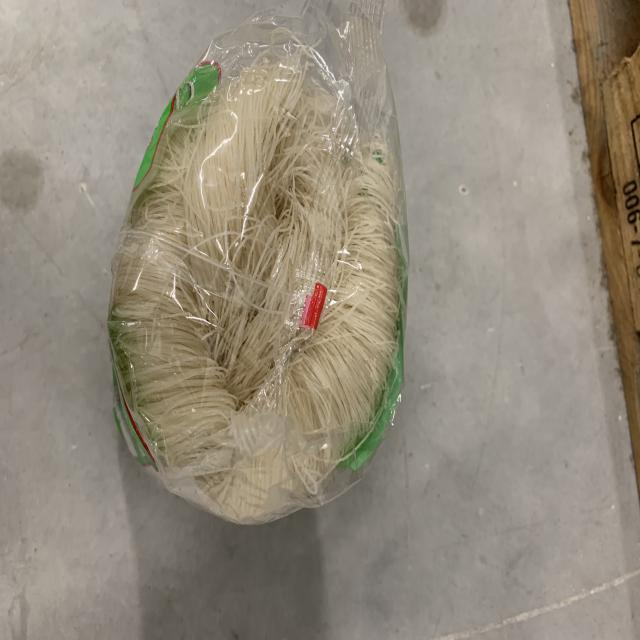object_name: (148, 52, 389, 489)
